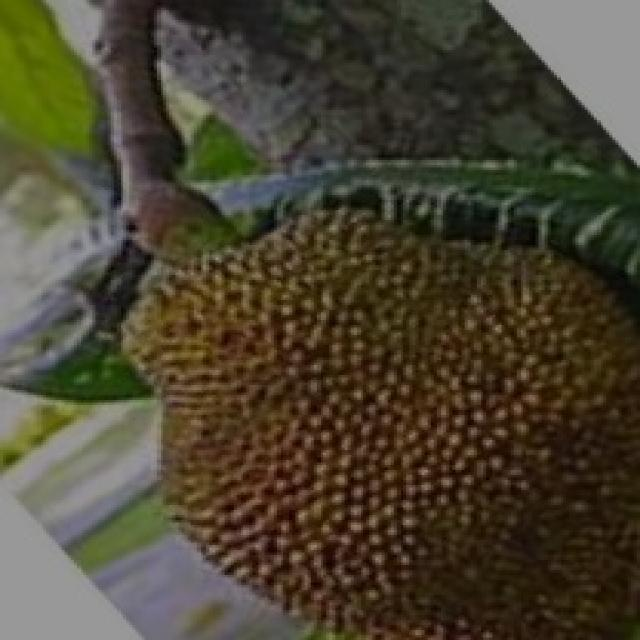fruit: (206, 178, 637, 632), (95, 245, 443, 640)
